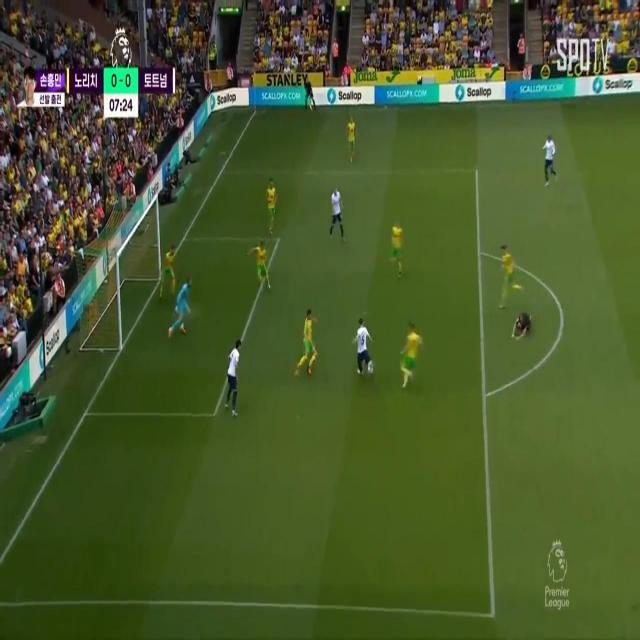ball: (366, 359, 377, 377)
goalkeeper: (169, 272, 200, 343)
player: (225, 337, 245, 408), (498, 240, 521, 300), (330, 184, 351, 244), (249, 240, 274, 288), (403, 327, 423, 383), (301, 309, 318, 367), (160, 246, 180, 294), (541, 131, 559, 183), (387, 221, 405, 271), (262, 181, 281, 228), (356, 310, 369, 375), (346, 114, 357, 163)
referee: (298, 72, 319, 116), (512, 310, 536, 338)
